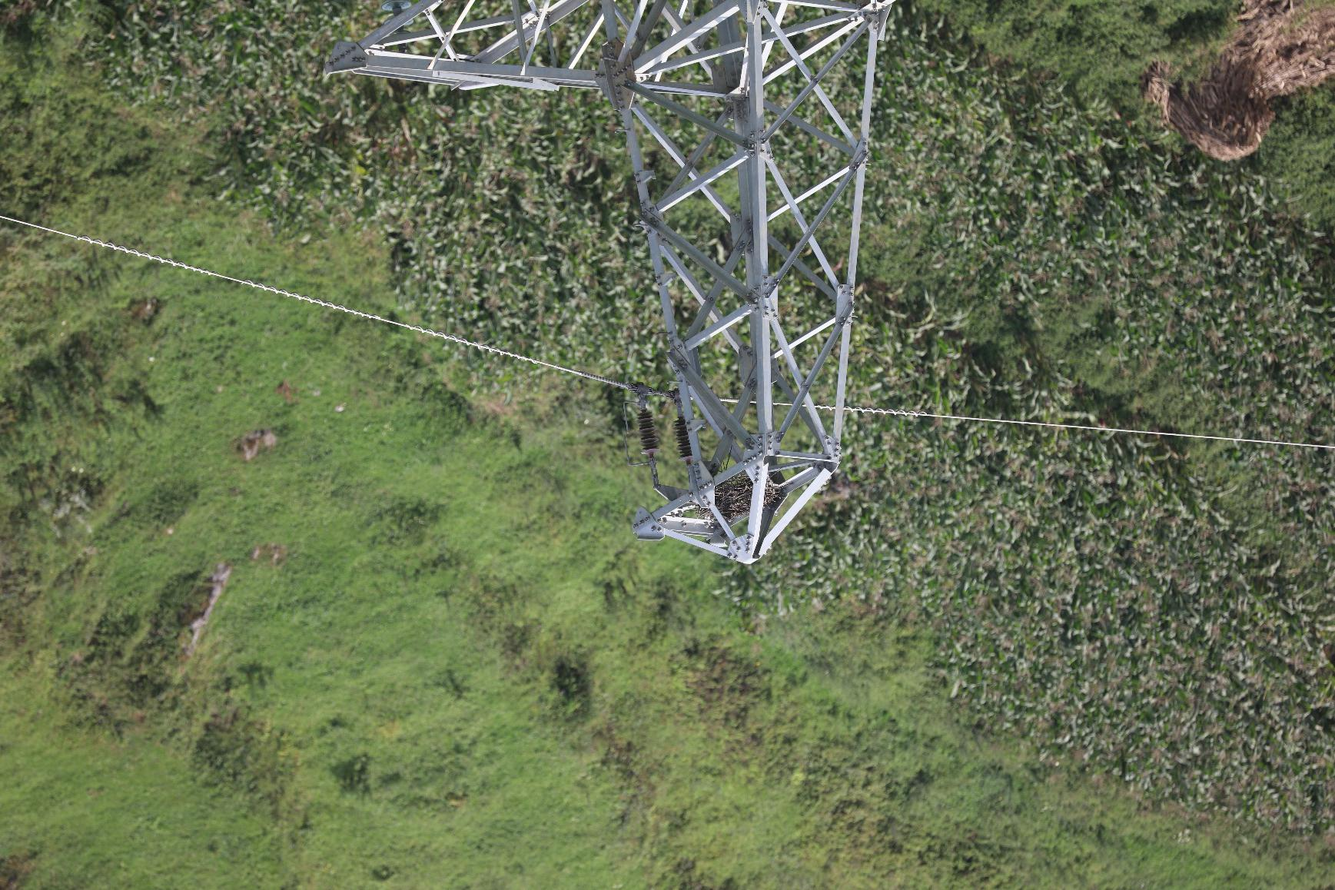nest: (713, 475, 782, 522)
